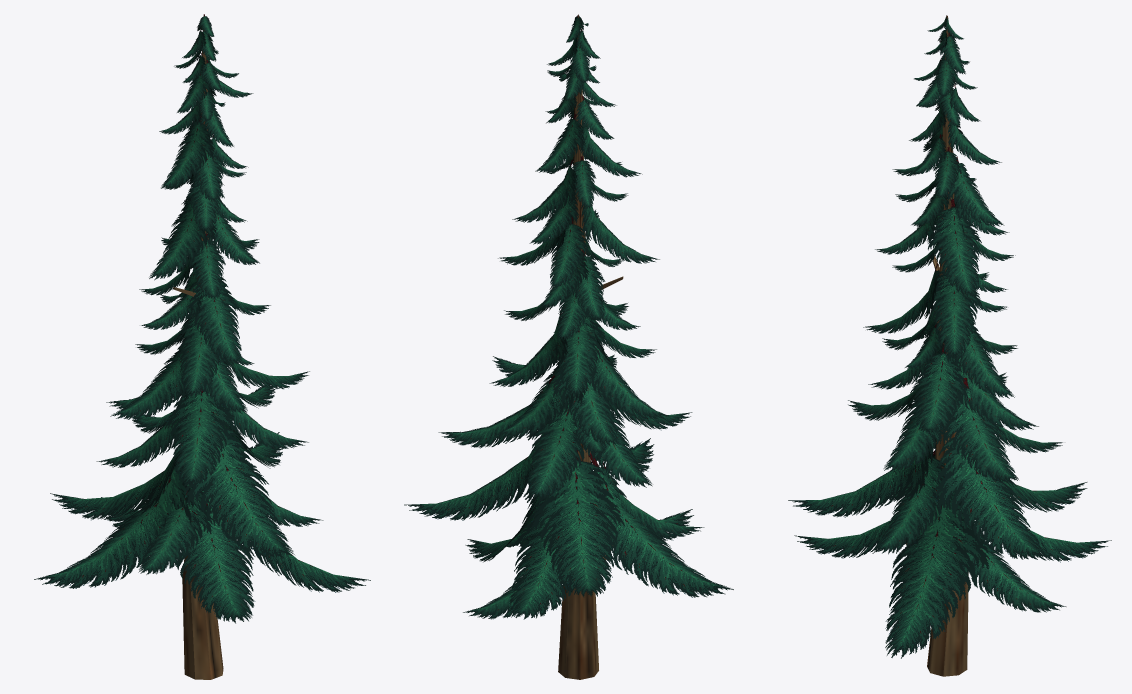
Rendered from Arvore2 1.fbx.
3 views of the same model, side by side, from view 1: azimuth 30°, elevation 25°; view 2: azimuth 150°, elevation 25°; view 3: azimuth 270°, elevation 25° (orthographic).
Visible parts, largest first — view 1: polySurface78; view 2: polySurface78; view 3: polySurface78.
Part boxes in pixels (x1=…): polySurface78: x1=34, y1=14, x2=370, y2=679; polySurface78: x1=404, y1=14, x2=733, y2=679; polySurface78: x1=788, y1=15, x2=1111, y2=676.
Size of the model in its own units: 7.12 by 14.26 by 6.58.
Materials: 2 (2 with a texture image).
